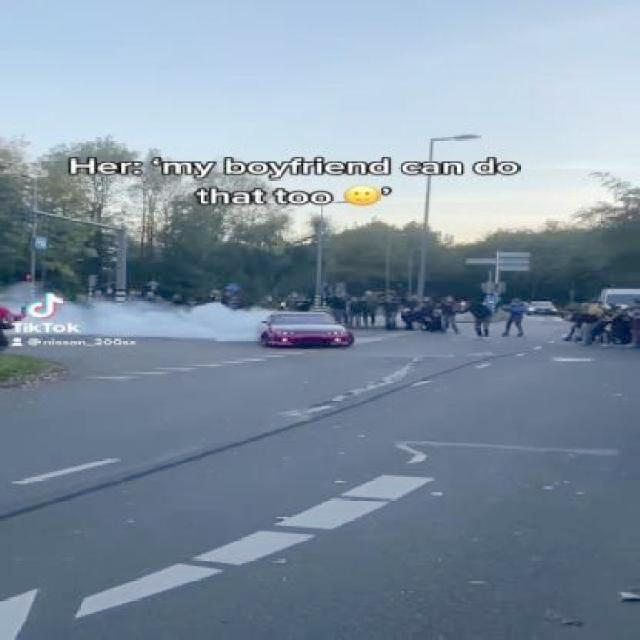car: (260, 310, 354, 348)
